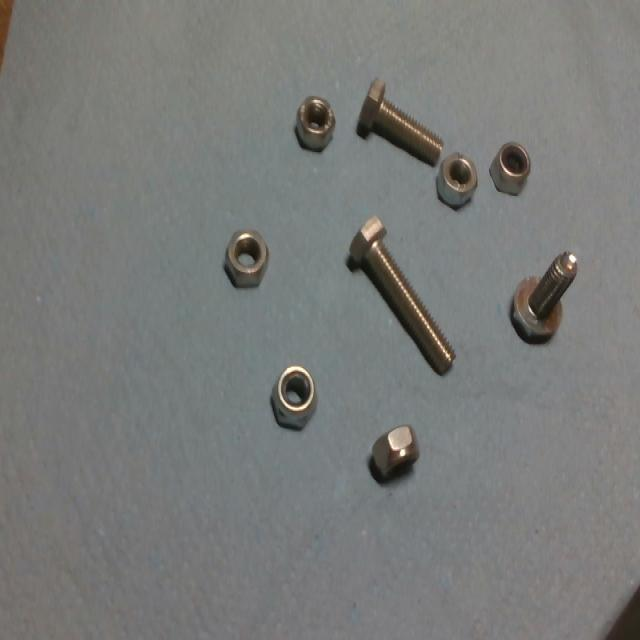Bolt: (345, 217, 454, 369), (356, 80, 444, 167), (510, 252, 577, 339)
Nut: (367, 423, 420, 481), (222, 228, 270, 289), (292, 93, 336, 153), (271, 369, 315, 425), (435, 152, 478, 207), (489, 143, 530, 196)
